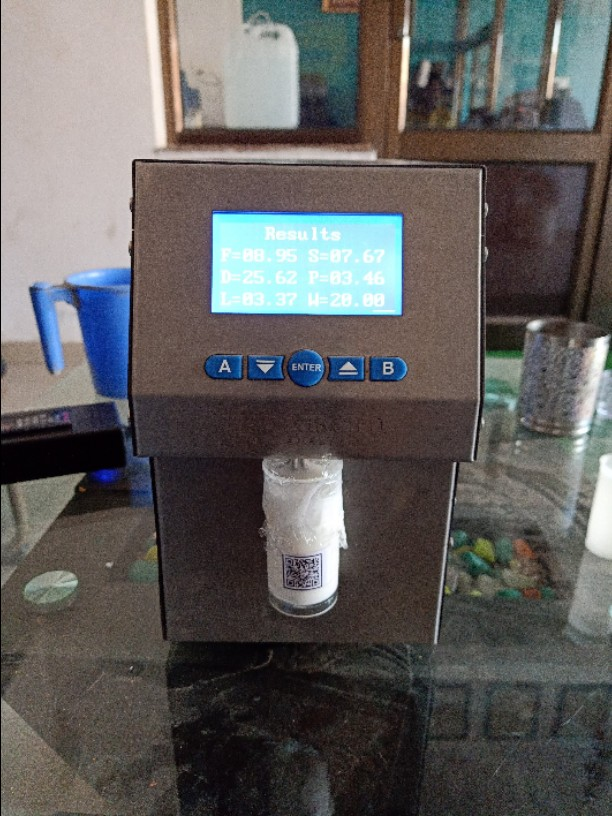lcd: (200, 199, 415, 326)
qr: (277, 550, 335, 606)
